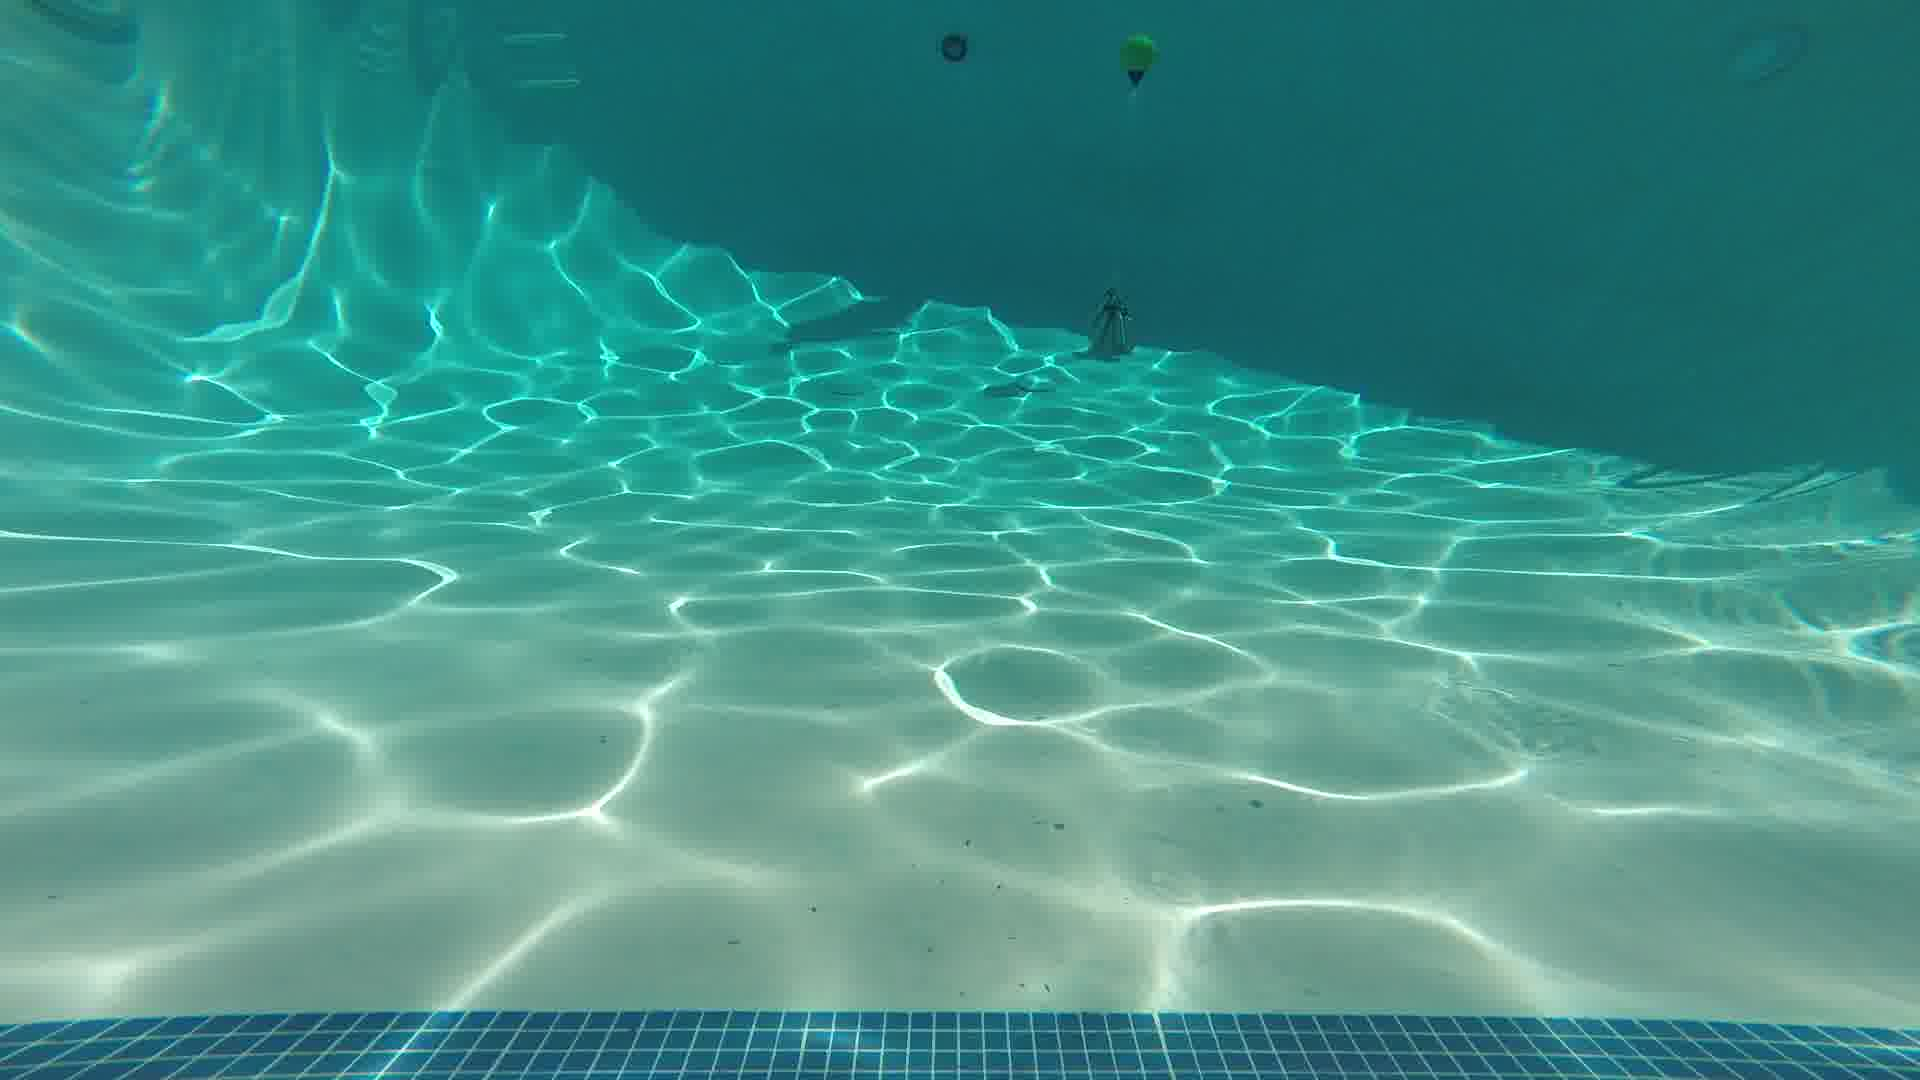yellow buoy: (1118, 26, 1160, 105)
